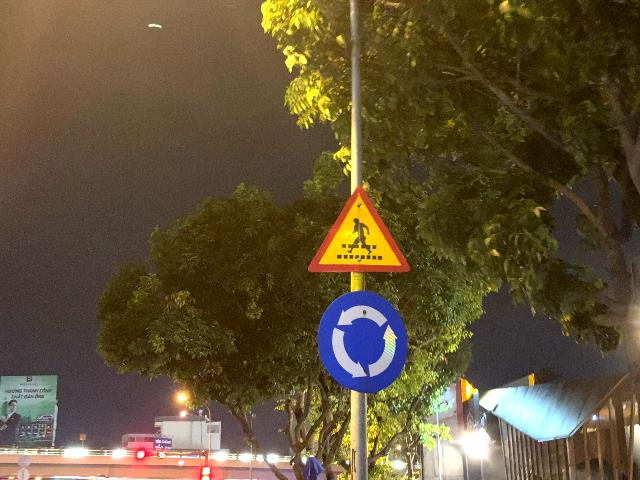duong-nguoi-di-bo-cat-ngang: (308, 185, 410, 271)
noi-giao-nhau-chay-theo-vong-xuyen: (316, 289, 410, 394)
